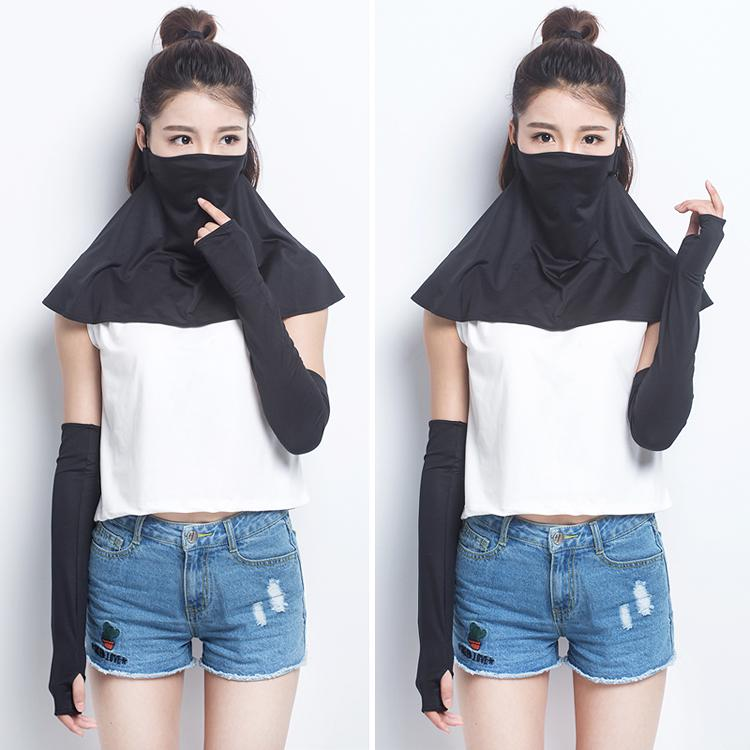OK: (520, 103, 615, 217), (153, 109, 249, 219)
